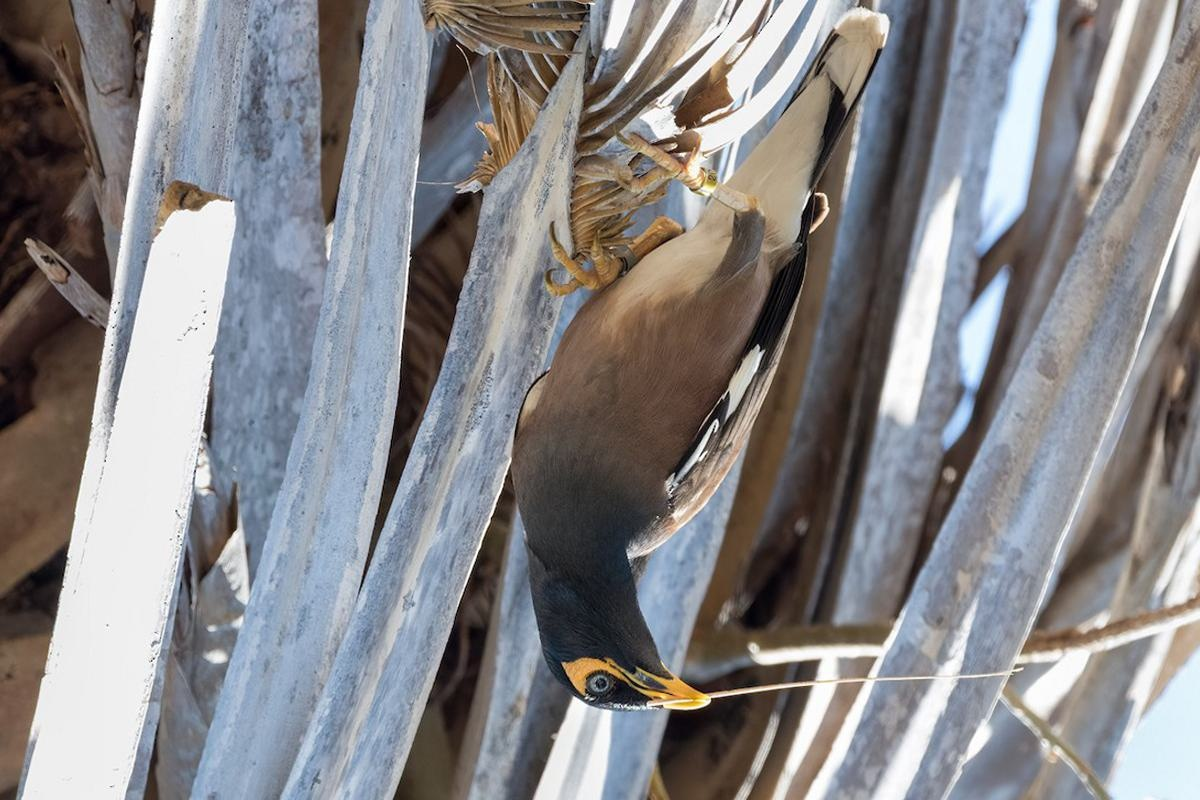myna: (521, 95, 880, 743)
